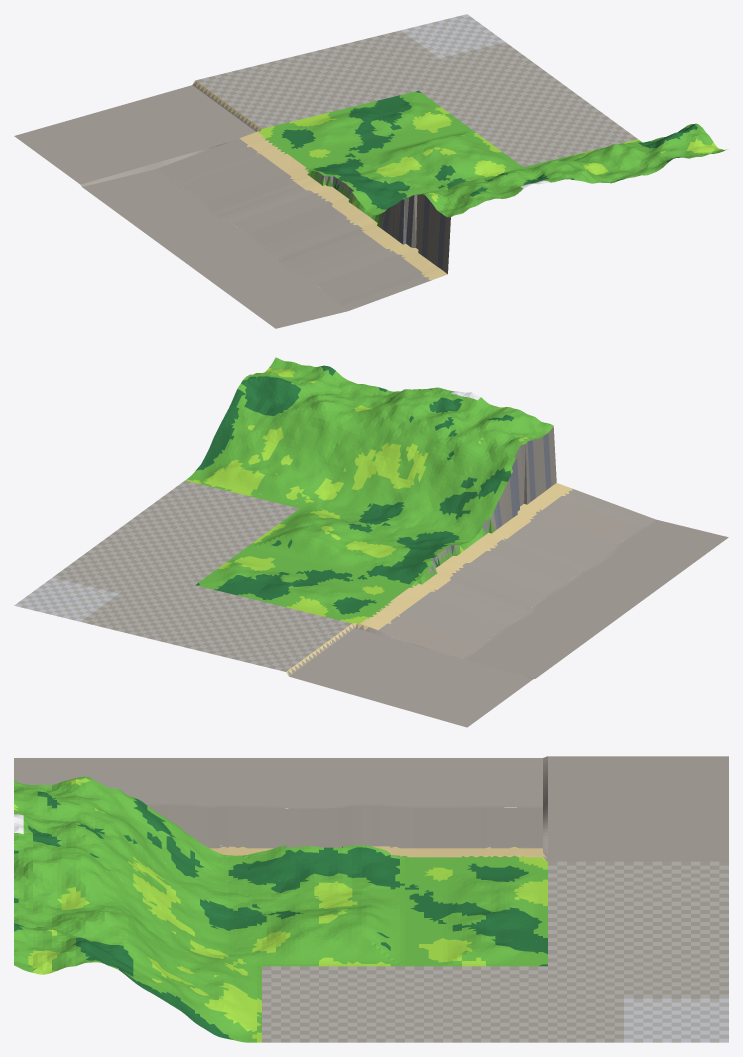
Rendered from Terrain_SW.fbx.
The picture shows the model from 3 angles, top to bottom: view 1: azimuth 30°, elevation 25°; view 2: azimuth 150°, elevation 25°; view 3: azimuth 270°, elevation 25°; orthographic projection. The views are drawn at different scales.
Visible parts, largest first — view 1: Chunk_2_0, Chunk_3_2, Chunk_1_2, Chunk_1_0, Chunk_1_1, Chunk_1_3, Chunk_1_4, Chunk_2_2, Chunk_0_4, Chunk_2_5, Chunk_0_5, Chunk_1_5 (+21 smaller); view 2: Chunk_2_0, Chunk_4_1, Chunk_5_1, Chunk_3_1, Chunk_2_1, Chunk_3_0, Chunk_5_0, Chunk_4_0, Chunk_1_3, Chunk_1_1, Chunk_1_0, Chunk_1_2 (+24 smaller); view 3: Chunk_4_2, Chunk_4_0, Chunk_4_3, Chunk_5_1, Chunk_4_4, Chunk_3_4, Chunk_3_1, Chunk_5_2, Chunk_5_3, Chunk_5_4, Chunk_5_5, Chunk_3_5 (+23 smaller).
Part boxes in pixels (x1,y1,x2,y2): Chunk_2_0: (383,182,500,281); Chunk_3_2: (372,136,489,194); Chunk_1_2: (220,186,339,245); Chunk_1_0: (308,250,426,309); Chunk_1_1: (264,218,382,277); Chunk_1_3: (177,154,295,213); Chunk_1_4: (133,125,251,182); Chunk_2_2: (296,163,413,218); Chunk_0_4: (58,146,176,200); Chunk_2_5: (165,69,283,124); Chunk_0_5: (14,114,132,167); Chunk_1_5: (90,93,208,146); Chunk_2_0: (459,407,577,522); Chunk_4_1: (264,420,382,513); Chunk_5_1: (189,401,307,494); Chunk_3_1: (340,443,458,531); Chunk_2_1: (415,458,533,554); Chunk_3_0: (383,387,501,458); Chunk_5_0: (232,357,350,420); Chunk_4_0: (307,381,424,443); Chunk_1_3: (403,586,522,645); Chunk_1_1: (491,522,609,582); Chunk_1_0: (534,491,652,550); Chunk_1_2: (447,554,565,613); Chunk_4_2: (252,925,371,992); Chunk_4_0: (14,855,133,931); Chunk_4_3: (371,928,490,992); Chunk_5_1: (133,932,252,1042); Chunk_4_4: (490,939,609,992); Chunk_3_4: (490,887,609,941); Chunk_3_1: (133,833,252,941); Chunk_5_2: (252,990,371,1042); Chunk_5_3: (371,992,490,1042); Chunk_5_4: (490,992,609,1042); Chunk_5_5: (609,992,728,1042); Chunk_3_5: (609,891,728,941).
Size of the model in its own units: 1500 by 260 by 1500.
1 material, 1 textured.
